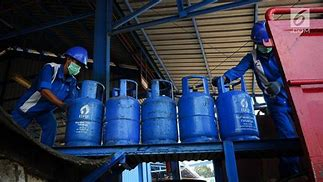blue_gas: (217, 75, 260, 140), (179, 75, 218, 144), (66, 81, 105, 147), (104, 80, 141, 146), (141, 79, 178, 144)
